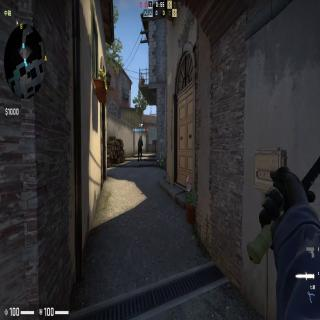CT-Body: (138, 136, 142, 162)
CT-Head: (140, 136, 142, 140)
